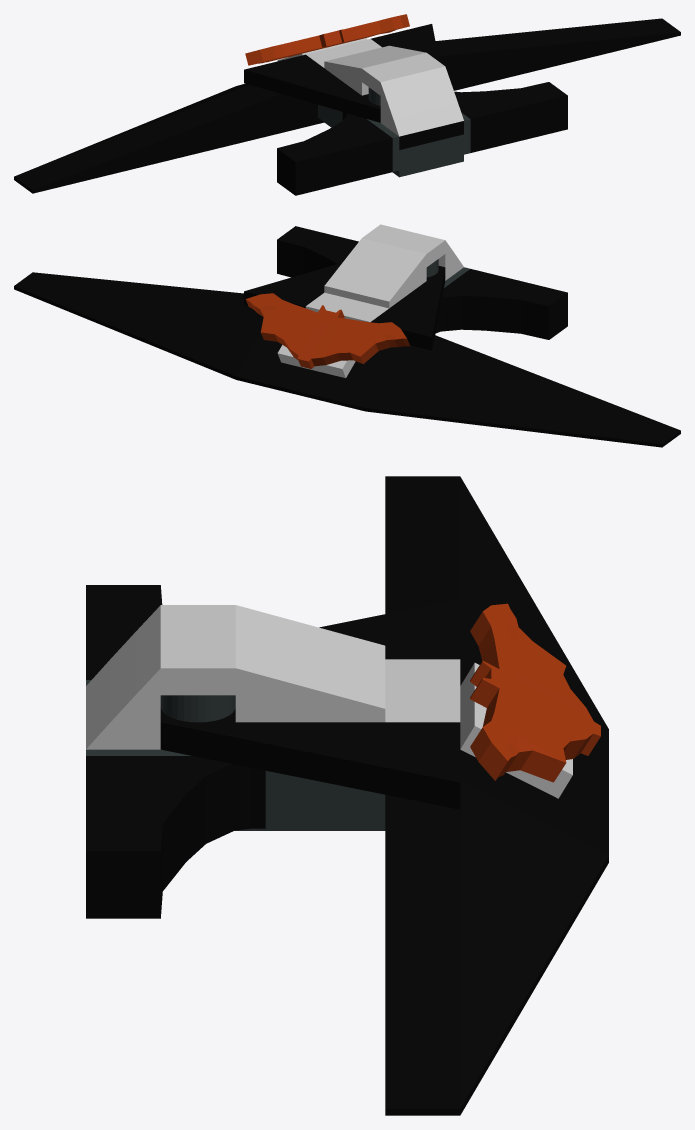
Rendered from wingRight.obj.
The picture shows the model from 3 angles, top to bottom: view 1: azimuth 30°, elevation 25°; view 2: azimuth 150°, elevation 25°; view 3: azimuth 270°, elevation 25°; orthographic projection. The views are drawn at different scales.
Parts seen in each view (by area): view 1: wing_tip_black_left_Cube.002, wing_tip_black_right_Cube, wing_signal_holder_Plane.002, dark_gray_1x2.002_Cube.008, wing_signal_holder.001_Plane.003, black_triangle_Cube.006, sign_Plane.001, engine_exhaust_dark_gray_2x2_Cube.014, light_gray_4x2_Cube.012, light_gray_4x2.001_Cube.003, black_4x2_Cube.004, ultra_thin_light_gray_1x4_Cube.011 (+2 smaller); view 2: wing_tip_black_left_Cube.002, wing_tip_black_right_Cube, wing_signal_holder_Plane.002, sign_Plane.001, engine_exhaust_dark_gray_2x2_Cube.014, black_triangle_Cube.006, wing_signal_holder.001_Plane.003, dark_gray_1x2.002_Cube.008, dark_gray_sign_holder_Cube.015, dark_gray_1x2_Cube.005, dark_gray_1x2.001_Cube.001; view 3: wing_tip_black_right_Cube, black_triangle_Cube.006, wing_signal_holder.001_Plane.003, wing_tip_black_left_Cube.002, engine_exhaust_dark_gray_2x2_Cube.014, dark_gray_1x2.002_Cube.008, sign_Plane.001, ultra_thin_light_gray_1x4.001_Cube.013, wing_signal_holder_Plane.002, dark_gray_1x2_Cube.005, dark_gray_1x2.001_Cube.001, dark_gray_sign_holder_Cube.015 (+2 smaller).
Boxes of the visible parts, x1,y1,x2,y2 form: wing_tip_black_left_Cube.002: (14, 83, 324, 193); wing_tip_black_right_Cube: (435, 18, 680, 90); wing_signal_holder_Plane.002: (277, 112, 392, 195); dark_gray_1x2.002_Cube.008: (362, 52, 463, 136); wing_signal_holder.001_Plane.003: (454, 82, 567, 152); black_triangle_Cube.006: (244, 24, 439, 122); sign_Plane.001: (245, 14, 409, 65); engine_exhaust_dark_gray_2x2_Cube.014: (324, 45, 425, 95); light_gray_4x2_Cube.012: (324, 122, 463, 177); light_gray_4x2.001_Cube.003: (399, 134, 463, 163); black_4x2_Cube.004: (399, 121, 463, 149); ultra_thin_light_gray_1x4_Cube.011: (318, 105, 399, 171); wing_tip_black_left_Cube.002: (301, 335, 680, 447); wing_tip_black_right_Cube: (14, 272, 313, 395); wing_signal_holder_Plane.002: (435, 269, 567, 339); sign_Plane.001: (245, 293, 409, 368); engine_exhaust_dark_gray_2x2_Cube.014: (324, 238, 426, 308); black_triangle_Cube.006: (244, 263, 445, 350); wing_signal_holder.001_Plane.003: (277, 226, 358, 277); dark_gray_1x2.002_Cube.008: (362, 224, 463, 280); dark_gray_sign_holder_Cube.015: (277, 345, 355, 378); dark_gray_1x2_Cube.005: (342, 300, 388, 322); dark_gray_1x2.001_Cube.001: (305, 292, 356, 312); wing_tip_black_right_Cube: (385, 750, 608, 1115); black_triangle_Cube.006: (160, 599, 460, 809); wing_signal_holder.001_Plane.003: (86, 756, 265, 918); wing_tip_black_left_Cube.002: (385, 476, 608, 792); engine_exhaust_dark_gray_2x2_Cube.014: (235, 605, 385, 722); dark_gray_1x2.002_Cube.008: (86, 605, 235, 749); sign_Plane.001: (470, 603, 600, 782); ultra_thin_light_gray_1x4.001_Cube.013: (86, 749, 385, 823); wing_signal_holder_Plane.002: (86, 585, 162, 679); dark_gray_1x2_Cube.005: (385, 659, 460, 690); dark_gray_1x2.001_Cube.001: (385, 691, 460, 722); dark_gray_sign_holder_Cube.015: (460, 663, 572, 798).
Bounding box in the file's own units: 160 × 19.2 × 55.9.
